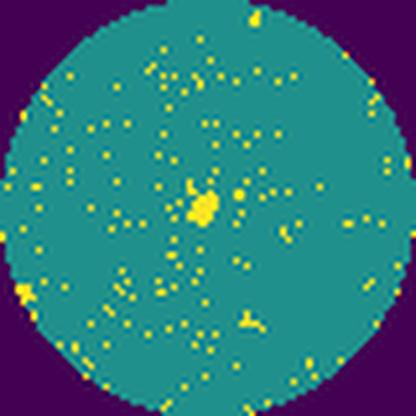Center: (185, 189, 222, 229)
